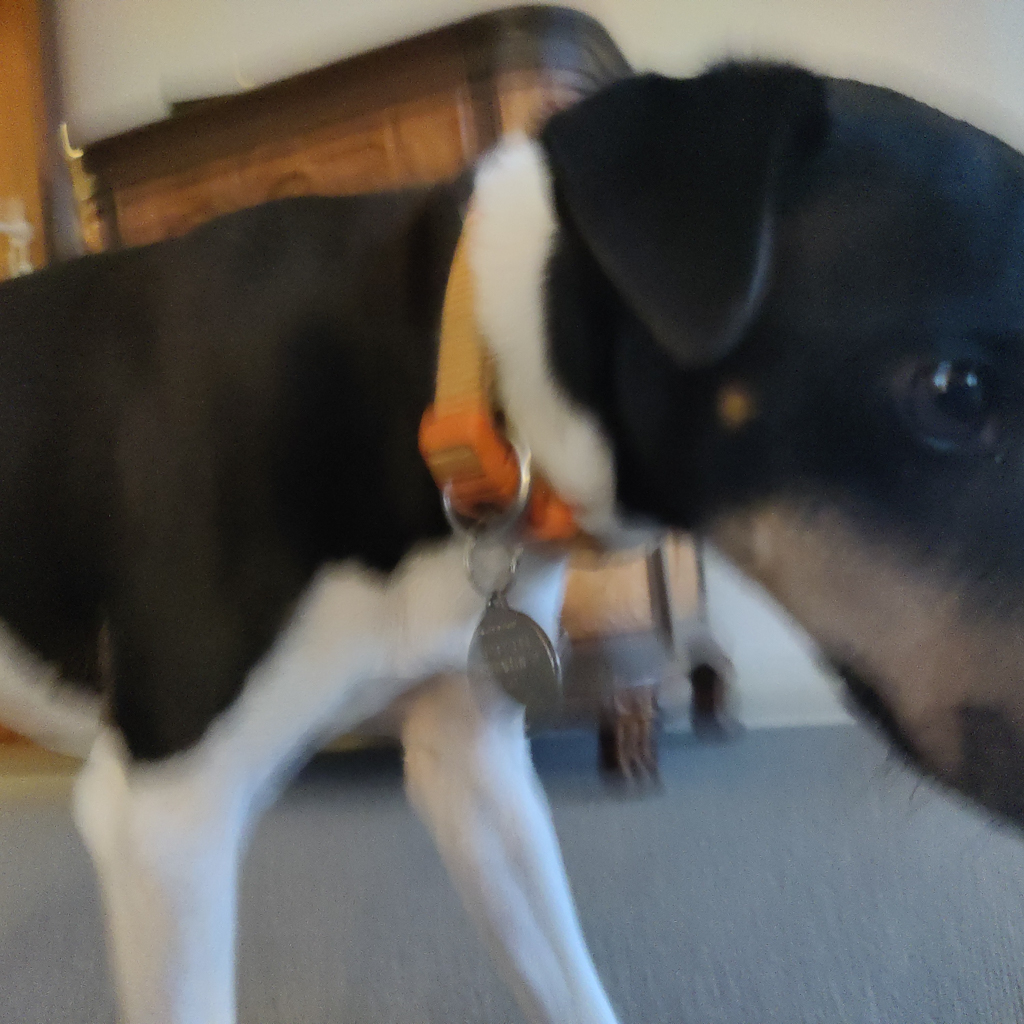Dog: (0, 33, 1024, 1024)
